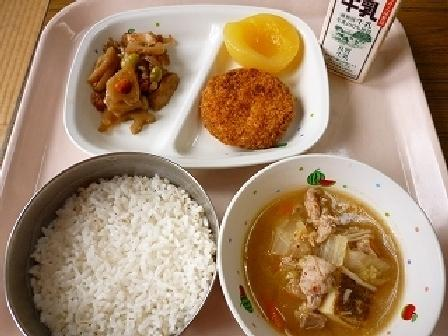Milk: (314, 0, 406, 73)
Rice: (11, 157, 219, 333)
Soups: (230, 160, 434, 331)
cooked food meat with vegetables: (89, 30, 192, 128)
cutlet: (196, 62, 297, 151)
peach: (220, 6, 300, 75)
